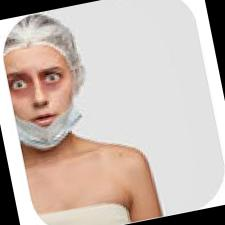mask_weared_incorrect: (5, 53, 78, 148)
